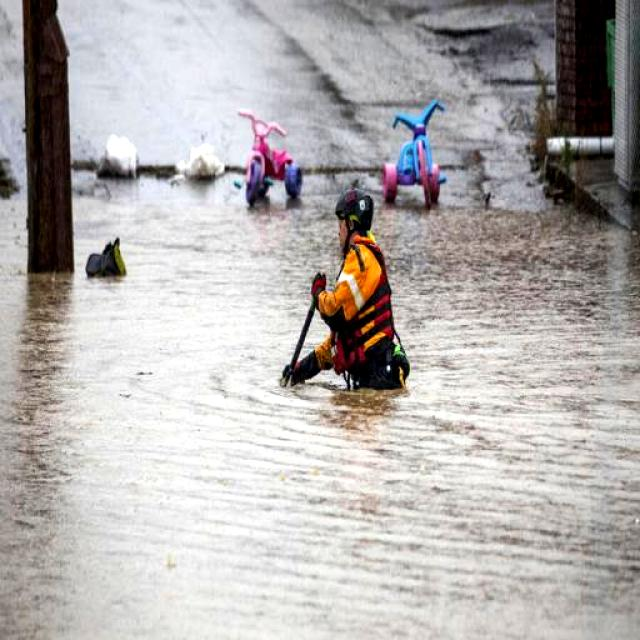rescuer: (278, 177, 434, 419)
